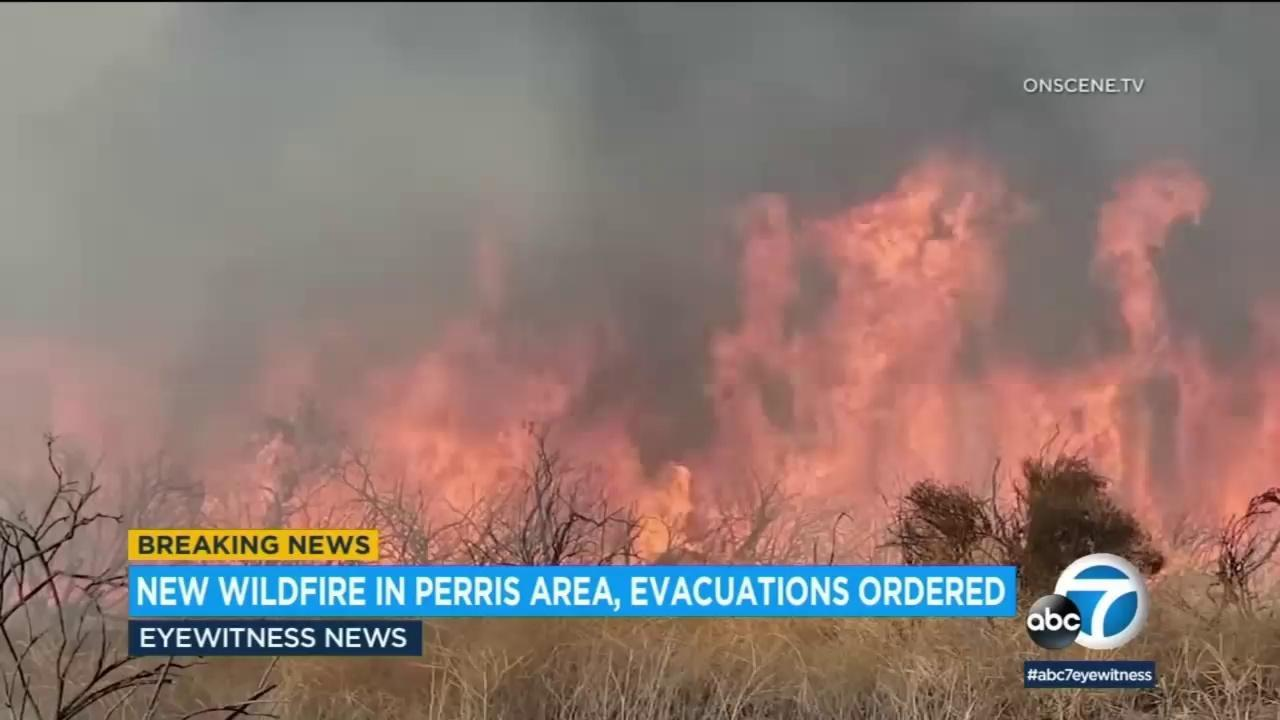fire: (0, 143, 1280, 602)
smoke: (0, 0, 1280, 363)
